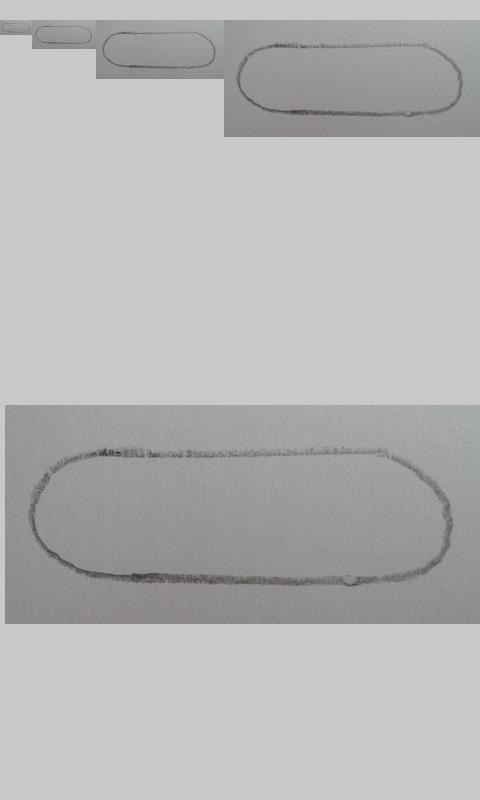chip: (27, 446, 453, 588), (235, 43, 464, 118), (101, 31, 217, 69), (34, 25, 93, 44), (1, 22, 31, 33)
